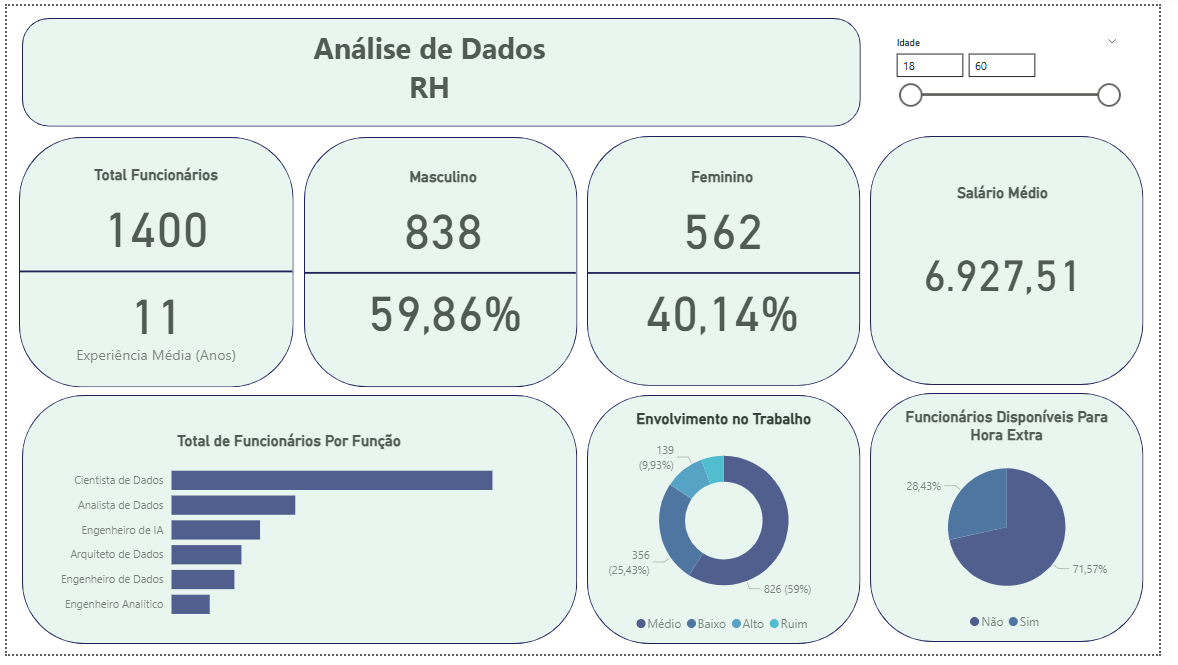

The page's visual inventory and layout, read from the dashboard file:
{"tool":"powerbi","page":{"name":"DashboardRH","canvas":[1280,720],"ordinal":0},"visuals":[{"type":"card","title":"Total Funcionários","fields":{"Values":["Medidas.TotalFunc"]},"box":[46.8,177.7,238.1,108.7],"z":0},{"type":"card","title":"Salário Médio","fields":{"Values":["Medidas.SalarioMedio"]},"box":[982.2,197.6,247.7,173.4],"z":1000},{"type":"card","title":"Masculino","fields":{"Values":["Medidas.TotalMasculino"]},"box":[391.5,179.7,187.2,108.7],"z":2000},{"type":"card","fields":{"Values":["Medidas.% Masculino"]},"box":[392.2,288.5,187.2,92.2],"z":3000},{"type":"card","title":"Feminino","fields":{"Values":["Medidas.TotalFeminino"]},"box":[701.4,179.7,187.1,109.1],"z":4000},{"type":"card","fields":{"Values":["Medidas.% Feminino"]},"box":[701.4,288.7,187.1,91.7],"z":5000},{"type":"pieChart","title":"Funcionários Disponíveis Para Hora Extra","fields":{"Category":["DatasetRH.Disponivel_Hora_Extra"],"Y":["Medidas.TotalFunc"]},"box":[979.7,446.8,261.7,256],"z":6000},{"type":"barChart","title":"Total de Funcionários Por Função","fields":{"Category":["DatasetRH.Funcao"],"Y":["Medidas.TotalFunc"]},"box":[48.3,472.8,531.3,218.8],"z":7000},{"type":"textbox","box":[29.7,18.6,878.6,116.5],"z":8000},{"type":"shape","box":[16.6,13.8,931.9,120.6],"z":9000},{"type":"slicer","fields":{"Values":["DatasetRH.Idade"]},"box":[975,29.1,269.8,115.6],"z":10000},{"type":"card","fields":{"Values":["Avg(DatasetRH.Anos_Experiencia)"]},"box":[46.8,294.7,238.1,108.7],"z":11000},{"type":"donutChart","title":"Envolvimento no Trabalho","fields":{"Category":["DatasetRH.Envolvimento_Trabalho"],"Y":["Medidas.TotalFunc"]},"box":[653.9,449,284,256],"z":12000},{"type":"shape","box":[644.7,431.9,303.7,276.6],"z":13000},{"type":"shape","box":[959.3,430.5,303.7,276.6],"z":14000},{"type":"shape","box":[959.3,144.4,303.7,276.6],"z":15000},{"type":"shape","box":[644.4,145,303.6,277.6],"z":16000},{"type":"shape","box":[329.5,145.1,303.7,278],"z":17000},{"type":"shape","box":[12.9,145.5,305.2,278.1],"z":18000},{"type":"shape","box":[16.9,431.9,616.9,276.6],"z":19000},{"type":"shape","box":[329.5,146.4,302.4,299.7],"z":20000},{"type":"shape","box":[645.6,146.2,302.4,299.9],"z":21000},{"type":"shape","box":[14.2,145.5,302.6,298.8],"z":22000}]}

Visuals, with their boxes in screenshot pixels (x1, y1, x2, y2), scaled from the page's 1280x720 canvas onto the 1178x665 screenshot:
"Total Funcionários" card: {"left": 43, "top": 164, "right": 262, "bottom": 265}
"Salário Médio" card: {"left": 904, "top": 183, "right": 1132, "bottom": 343}
"Masculino" card: {"left": 360, "top": 166, "right": 533, "bottom": 266}
card - Medidas.% Masculino: {"left": 361, "top": 266, "right": 533, "bottom": 352}
"Feminino" card: {"left": 646, "top": 166, "right": 818, "bottom": 267}
card - Medidas.% Feminino: {"left": 646, "top": 267, "right": 818, "bottom": 351}
"Funcionários Disponíveis Para Hora Extra" pieChart: {"left": 902, "top": 413, "right": 1142, "bottom": 649}
"Total de Funcionários Por Função" barChart: {"left": 44, "top": 437, "right": 533, "bottom": 639}
textbox: {"left": 27, "top": 17, "right": 836, "bottom": 125}
shape: {"left": 15, "top": 13, "right": 873, "bottom": 124}
slicer - DatasetRH.Idade: {"left": 897, "top": 27, "right": 1146, "bottom": 134}
card - Avg(DatasetRH.Anos_Experiencia): {"left": 43, "top": 272, "right": 262, "bottom": 373}
"Envolvimento no Trabalho" donutChart: {"left": 602, "top": 415, "right": 863, "bottom": 651}
shape: {"left": 593, "top": 399, "right": 873, "bottom": 654}
shape: {"left": 883, "top": 398, "right": 1162, "bottom": 653}
shape: {"left": 883, "top": 133, "right": 1162, "bottom": 389}
shape: {"left": 593, "top": 134, "right": 872, "bottom": 390}
shape: {"left": 303, "top": 134, "right": 583, "bottom": 391}
shape: {"left": 12, "top": 134, "right": 293, "bottom": 391}
shape: {"left": 16, "top": 399, "right": 583, "bottom": 654}
shape: {"left": 303, "top": 135, "right": 582, "bottom": 412}
shape: {"left": 594, "top": 135, "right": 872, "bottom": 412}
shape: {"left": 13, "top": 134, "right": 292, "bottom": 410}
